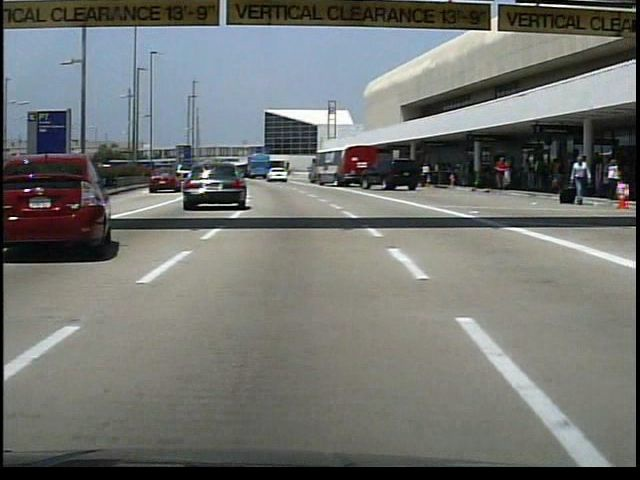person: (564, 151, 591, 205), (493, 154, 512, 190), (532, 153, 546, 190), (465, 157, 477, 187), (419, 163, 431, 189)
